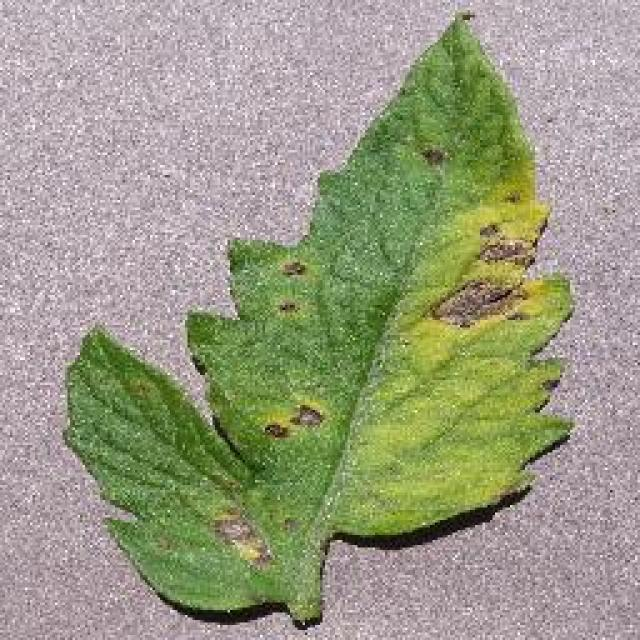Tomato Septoria spot leaf: (65, 10, 580, 612)
